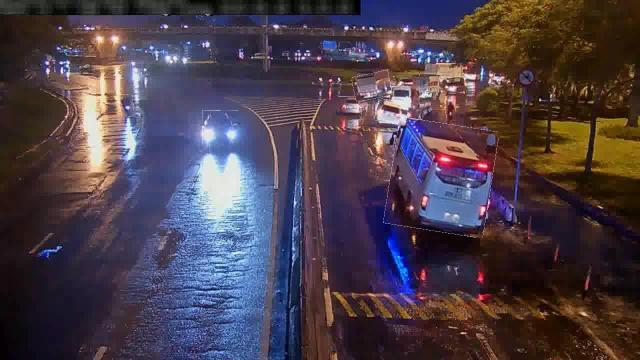Bike: (120, 94, 134, 118), (445, 100, 455, 121)
Bus: (387, 120, 495, 234), (376, 100, 408, 124), (387, 87, 418, 108)
Car: (203, 111, 239, 145), (338, 97, 366, 114), (438, 78, 466, 94)
Truck: (352, 72, 392, 100)
